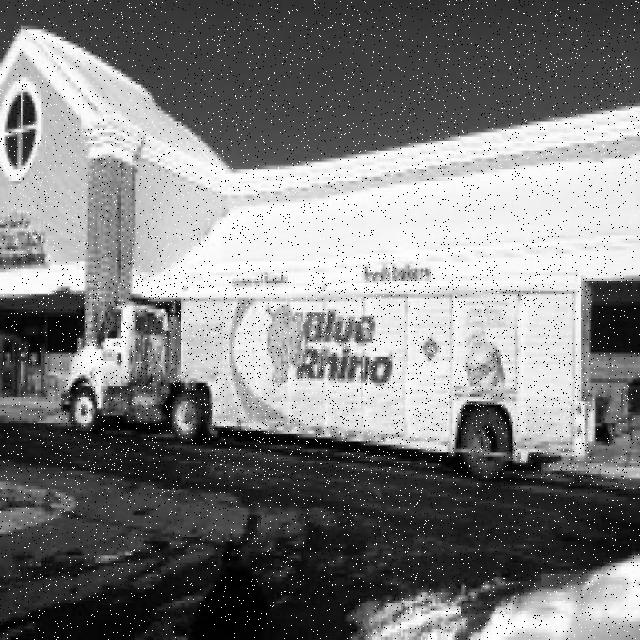Tractor Trailer: (61, 275, 593, 480)
